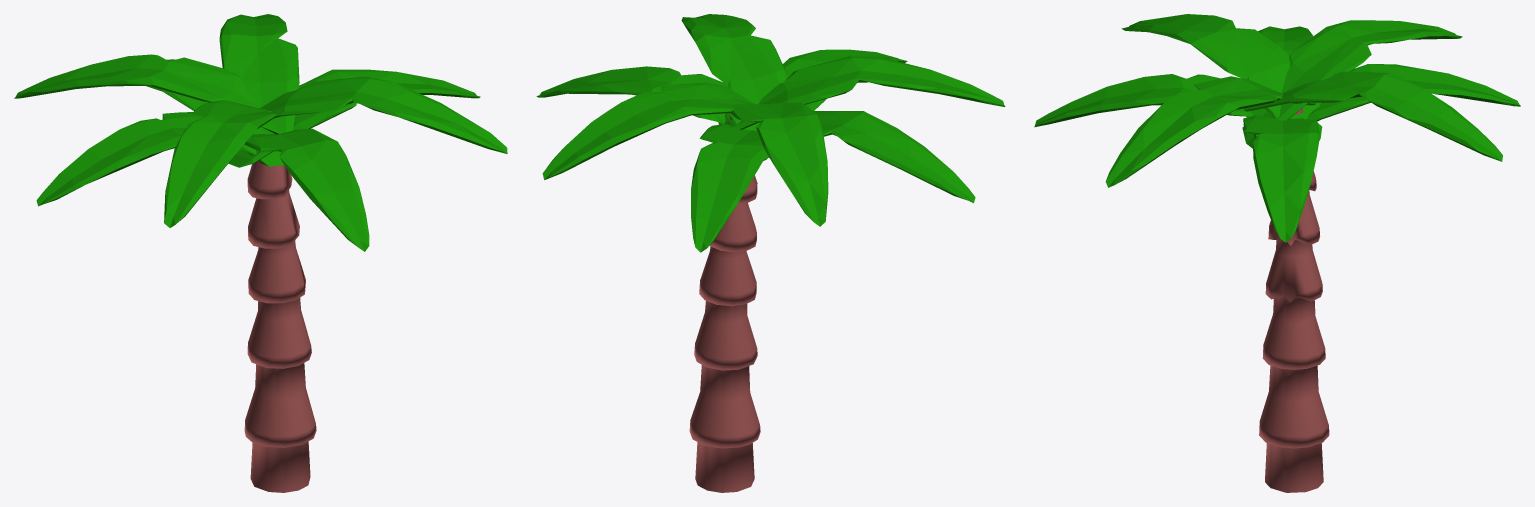
File: palmTree.fbx
3 renders of one model, left to right at view 1: azimuth 30°, elevation 25°; view 2: azimuth 150°, elevation 25°; view 3: azimuth 270°, elevation 25°, orthographic. The views are drawn at different scales.
Visible parts, largest first — view 1: Plane, Vert.002; view 2: Plane, Vert.002; view 3: Plane, Vert.002.
Part boxes in pixels (x1,y1,x2,y2): Plane: (14, 14, 507, 251); Vert.002: (244, 161, 316, 492); Plane: (536, 14, 1005, 252); Vert.002: (689, 116, 760, 492); Plane: (1034, 14, 1520, 242); Vert.002: (1259, 108, 1329, 492).
Bounding box in the file's own units: 548 × 490 × 535.
